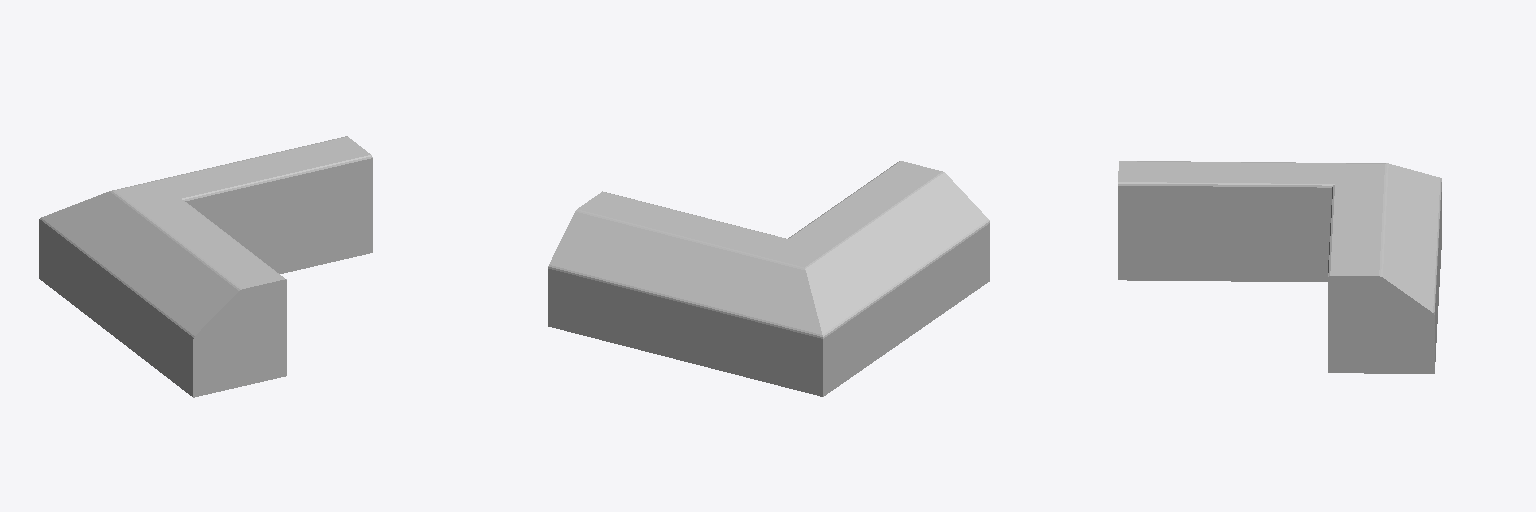
File: Inside Corner_HP.obj
3 views of the same model, side by side, from view 1: azimuth 30°, elevation 25°; view 2: azimuth 150°, elevation 25°; view 3: azimuth 270°, elevation 25° (orthographic).
Visible parts, largest first — view 1: Inside_Corner_HP; view 2: Inside_Corner_HP; view 3: Inside_Corner_HP.
Boxes of the visible parts, <box> form: Inside_Corner_HP: <box>39,136,372,397</box>; Inside_Corner_HP: <box>548,161,989,396</box>; Inside_Corner_HP: <box>1118,161,1441,373</box>.
Size of the model in its own units: 3.07 by 1 by 3.02.